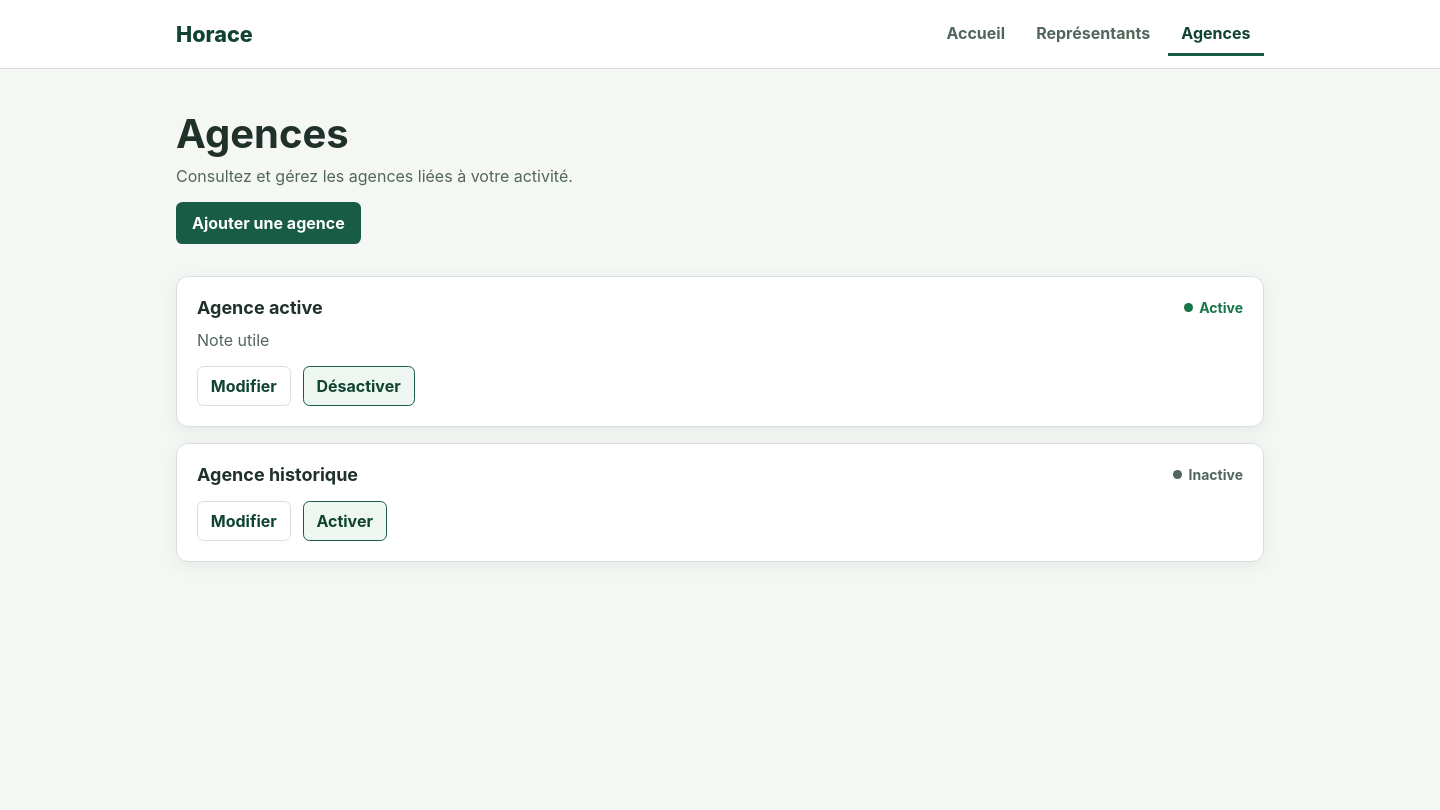
Scenario: page agences › n’envoie que les champs modifiés pendant l’édition
Expected: the heading "Agence active" is shown, top-left (197, 297), bottom-right (323, 318)
Click the button "Modifier" below "Agence active" at (244, 386), box top-left (197, 366), bottom-right (291, 406)
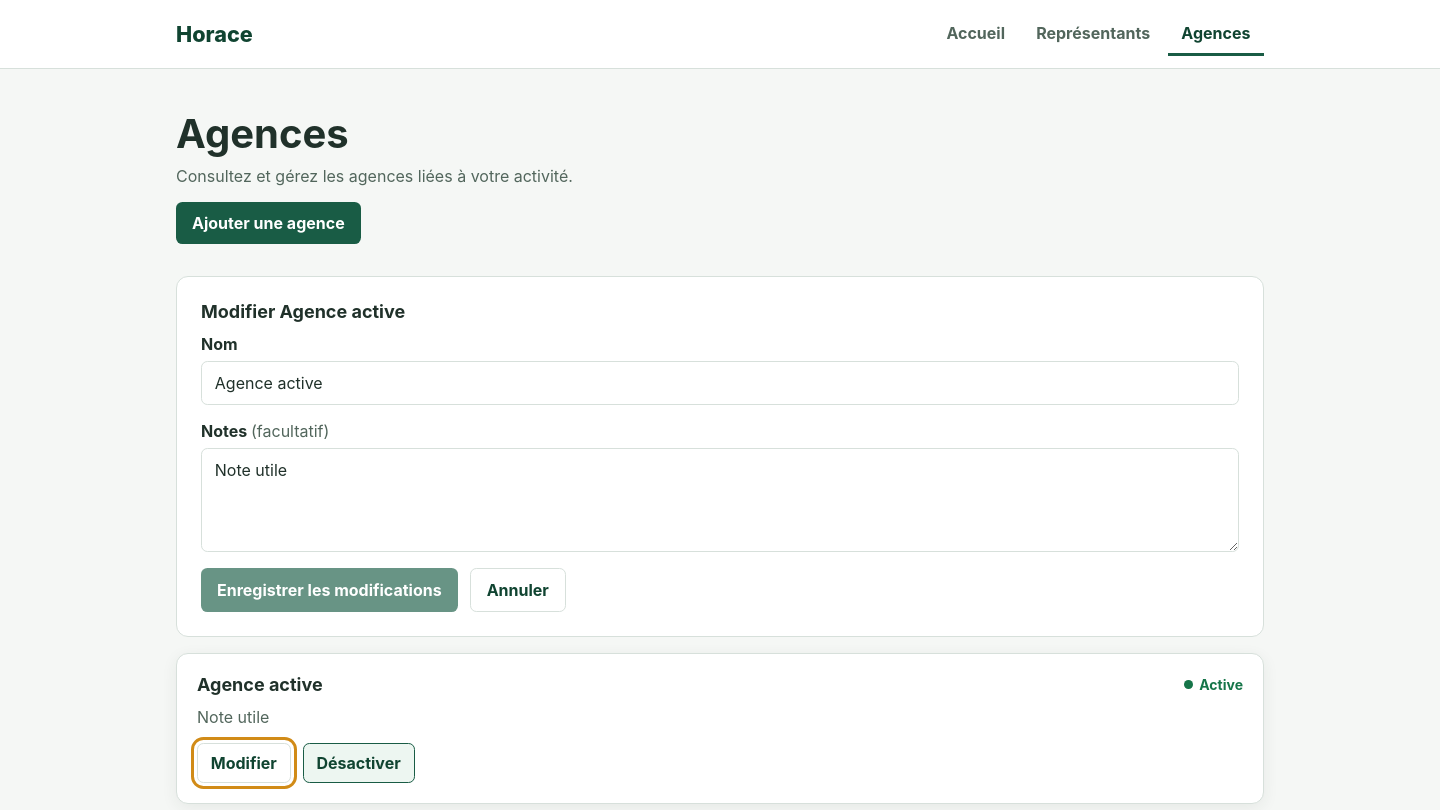
Replace the text in the field labelled "Nom" with "Agence renommée" at (720, 383), box top-left (201, 361), bottom-right (1239, 405)
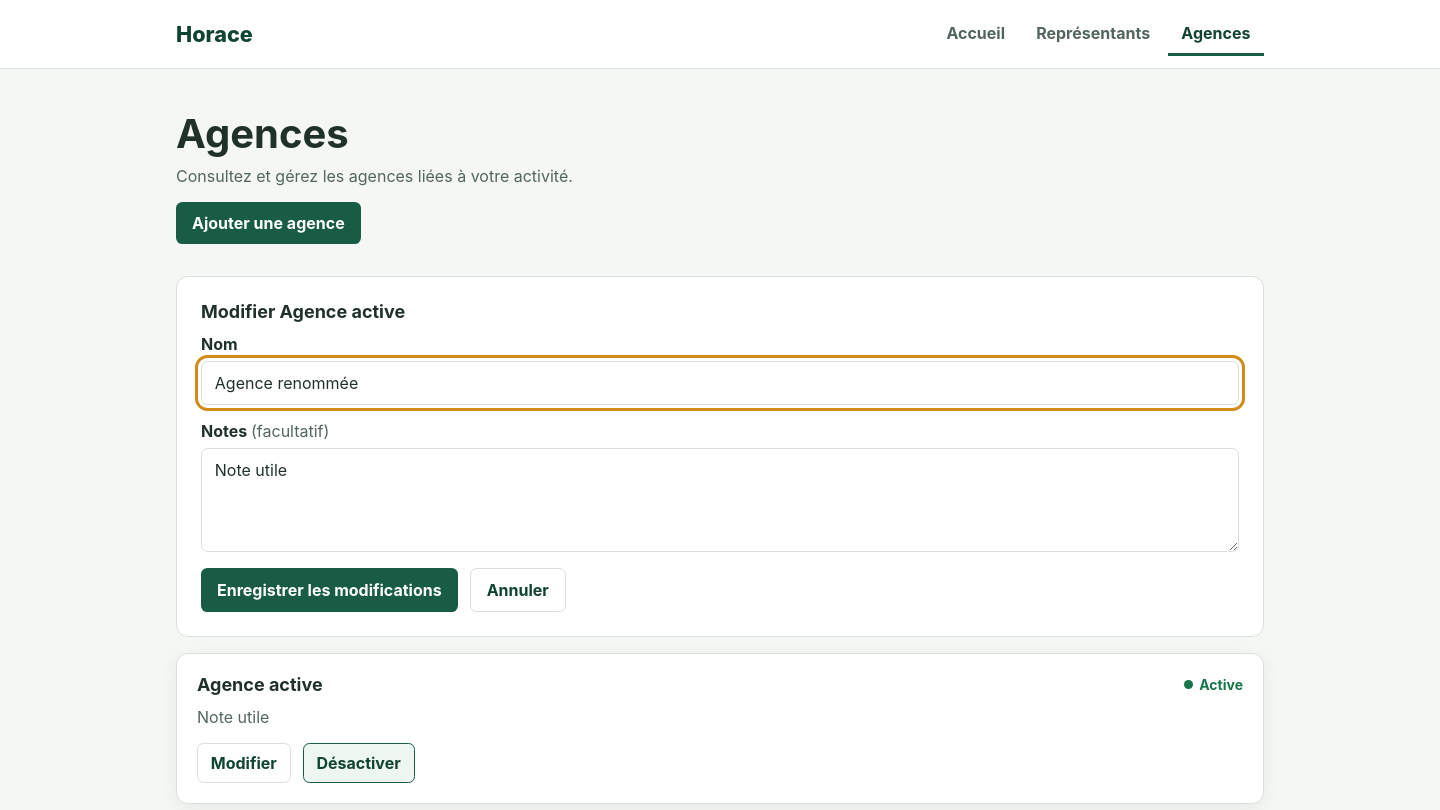
Click the button "Enregistrer les modifications" at (329, 590), box top-left (201, 568), bottom-right (458, 612)
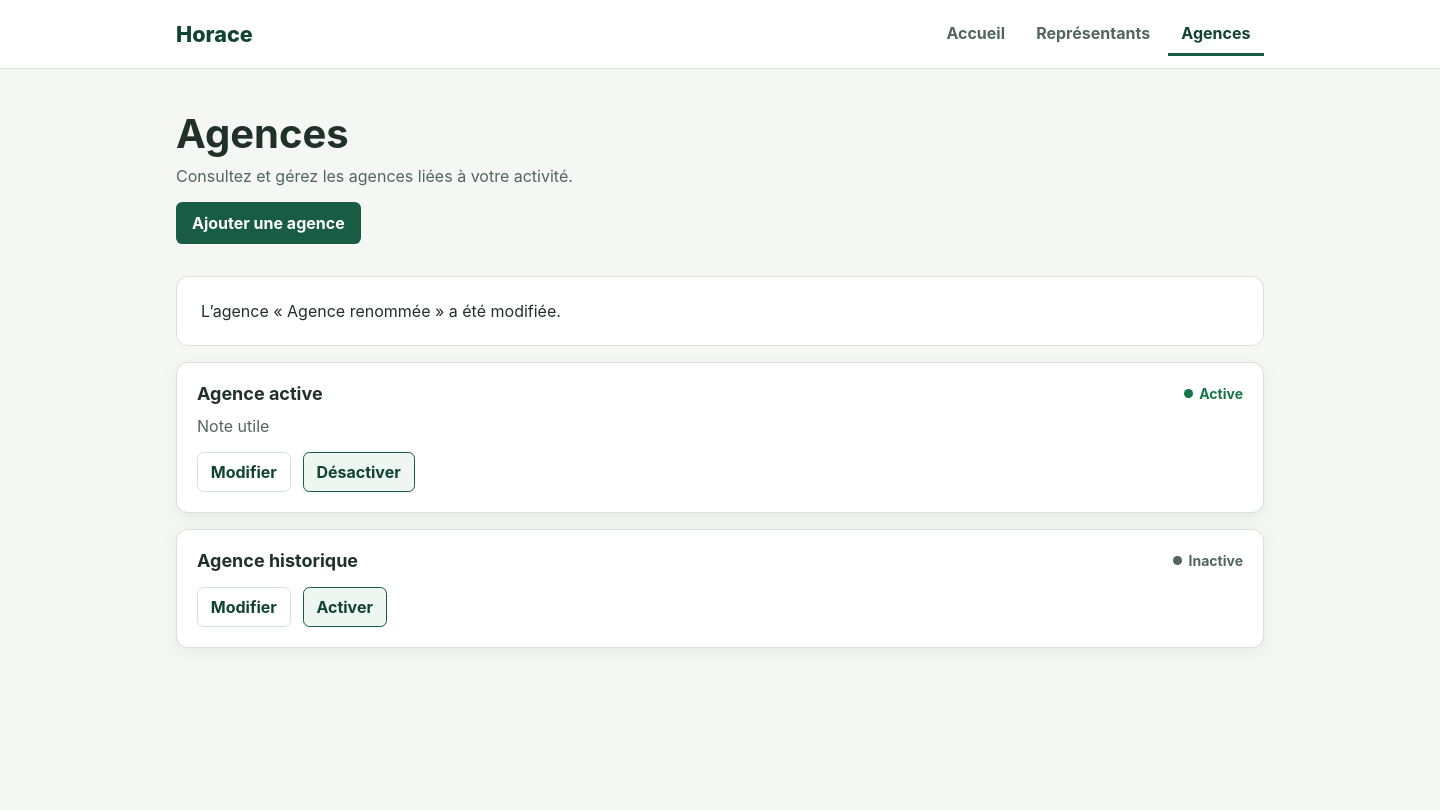
Expected: the text "L’agence « Agence renommée » a été modifiée." is shown, top-left (201, 301), bottom-right (561, 321)
